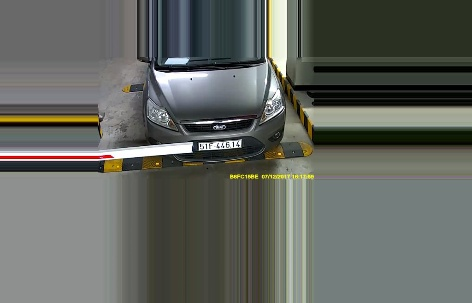plate: (198, 139, 242, 150)
